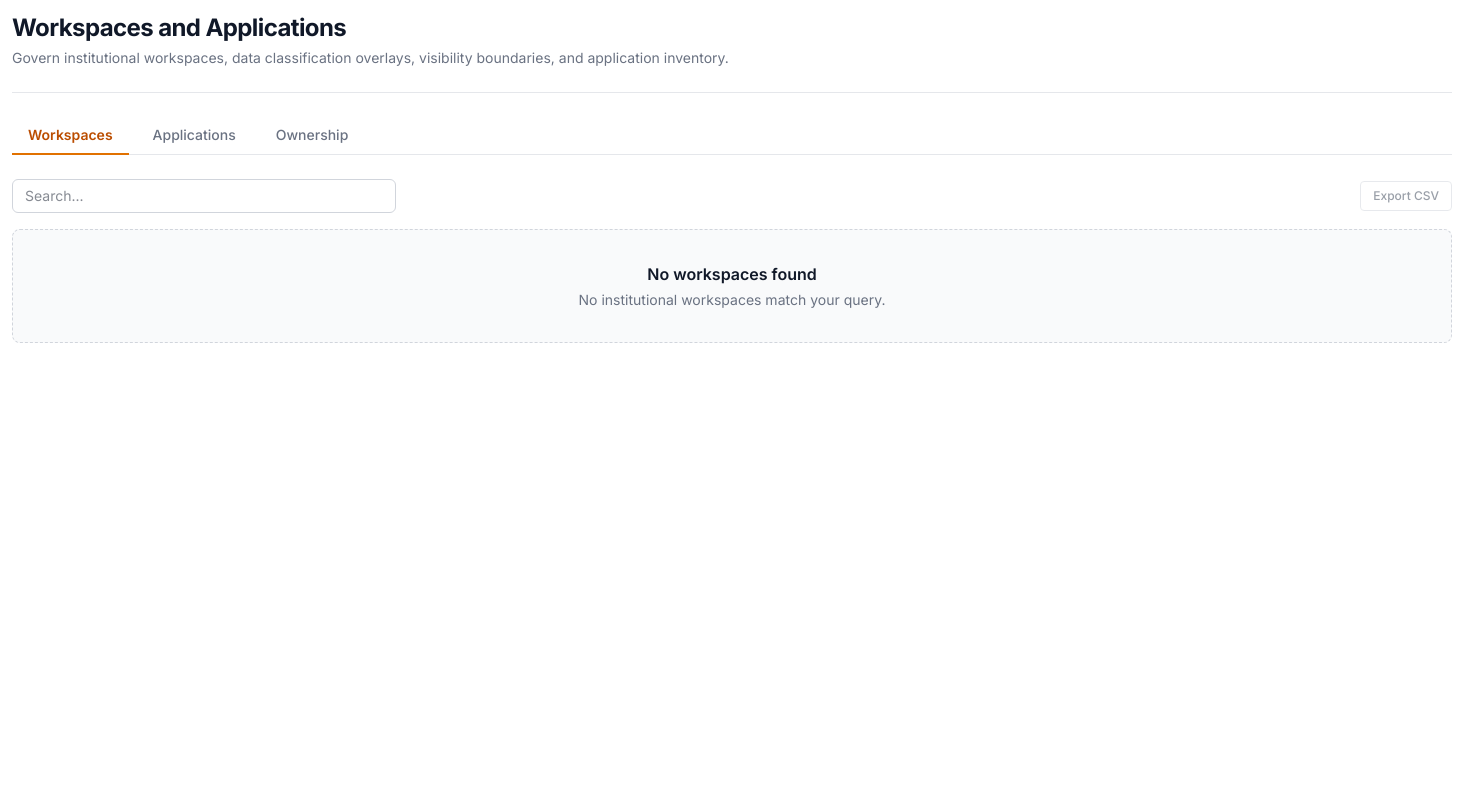
Scenario: Ownership › is a tab in the workspaces section
Click the button with test id "admin-workspaces-subtab-ownership": {"x": 312, "y": 136} [260,117,364,155]
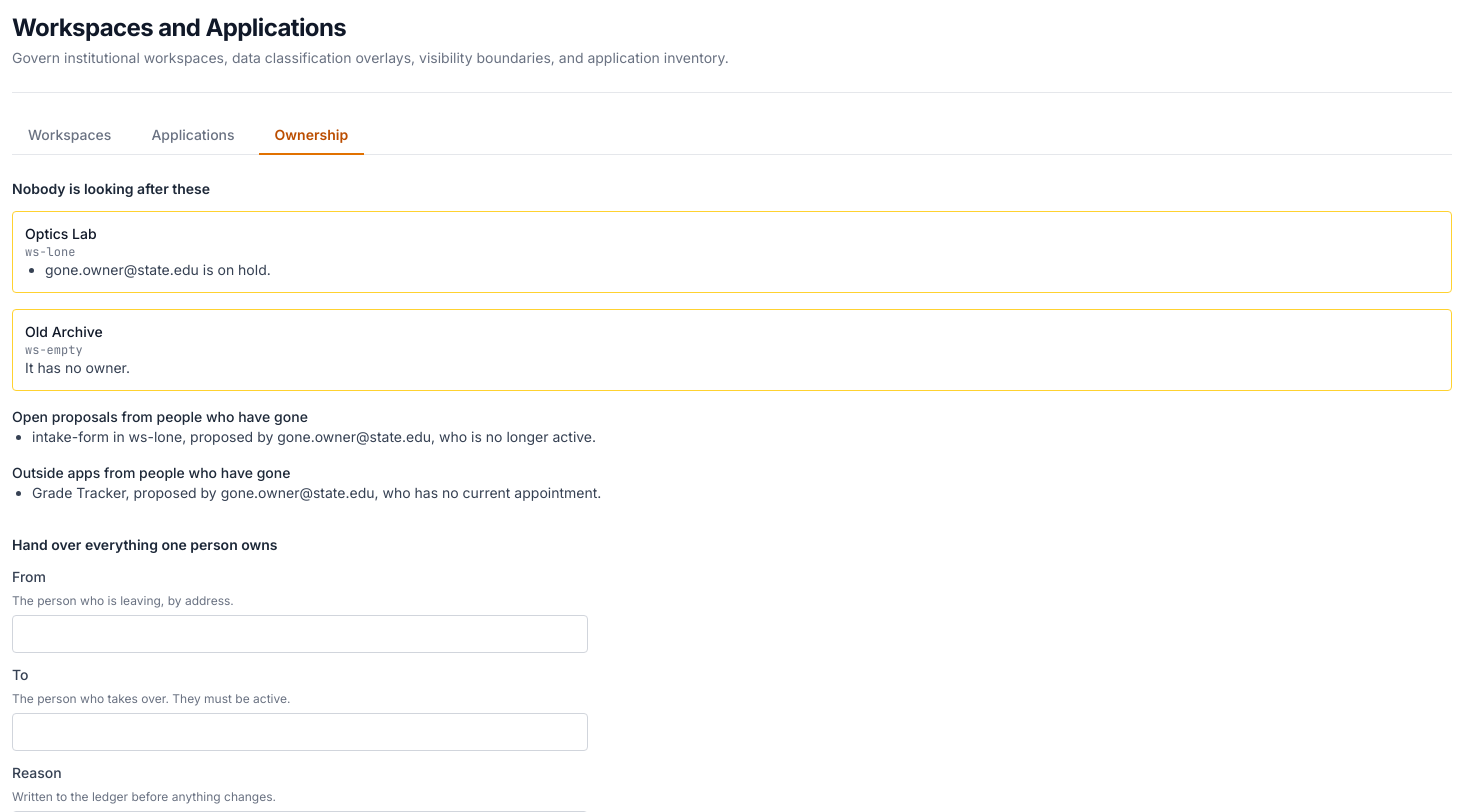
Check: the element with test id "ownership-orphans" is shown, box [12,211,1452,503]
